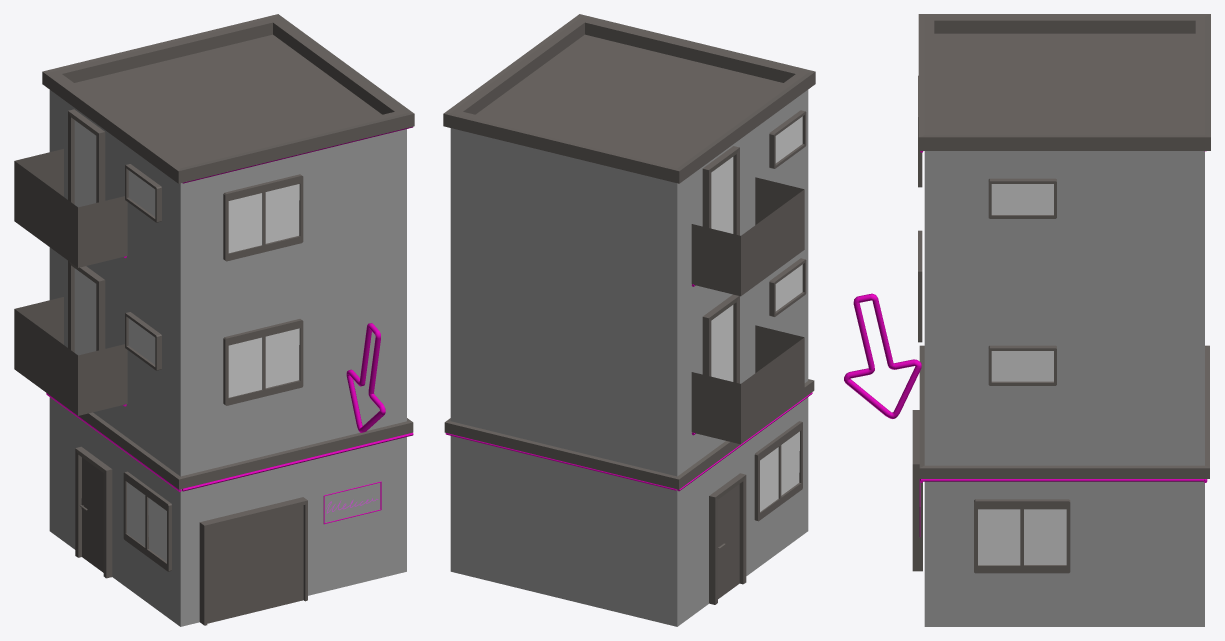
File: SmallBuilding_02.fbx
The picture shows the model from 3 angles, left to right: view 1: azimuth 30°, elevation 25°; view 2: azimuth 150°, elevation 25°; view 3: azimuth 270°, elevation 25°; orthographic projection. The views are drawn at different scales.
Parts seen in each view (by area): view 1: Smallerhouse2; view 2: Smallerhouse2; view 3: Smallerhouse2.
Boxes of the visible parts, left/top/right/bottom form: Smallerhouse2: left=14, top=14, right=414, bottom=626; Smallerhouse2: left=443, top=14, right=815, bottom=626; Smallerhouse2: left=844, top=14, right=1210, bottom=626.
Size of the model in its own units: 489 by 758 by 512.
